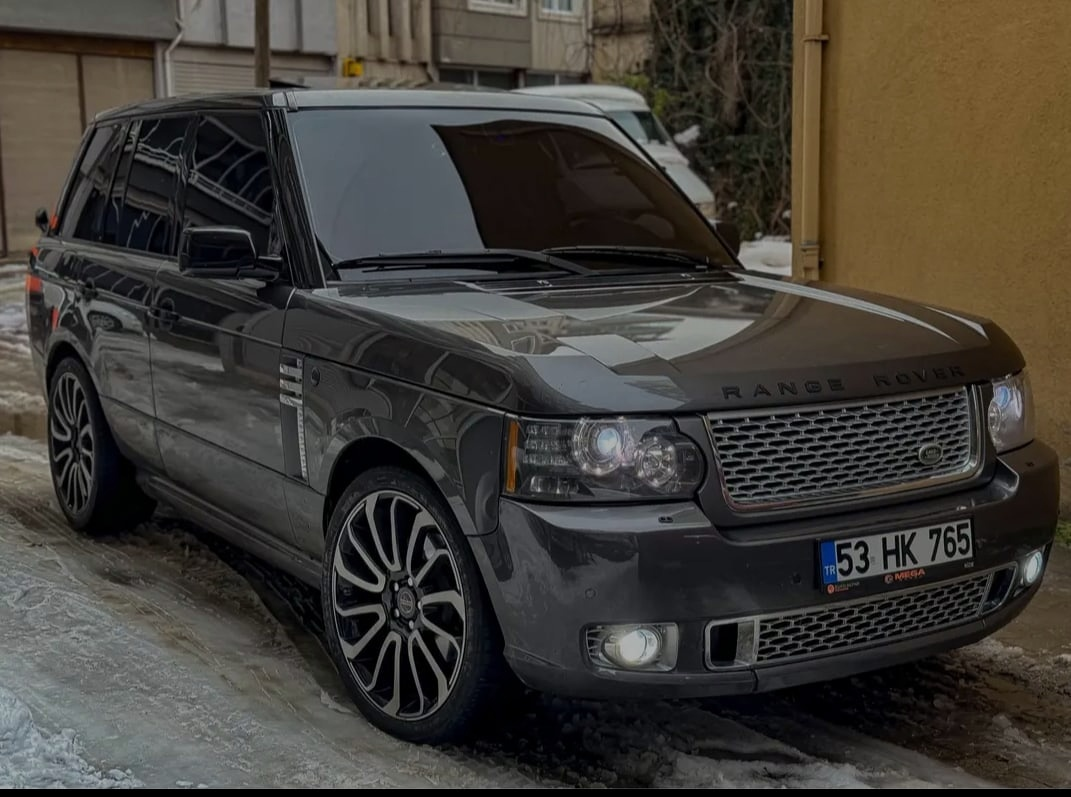plaka: (829, 514, 988, 592)
